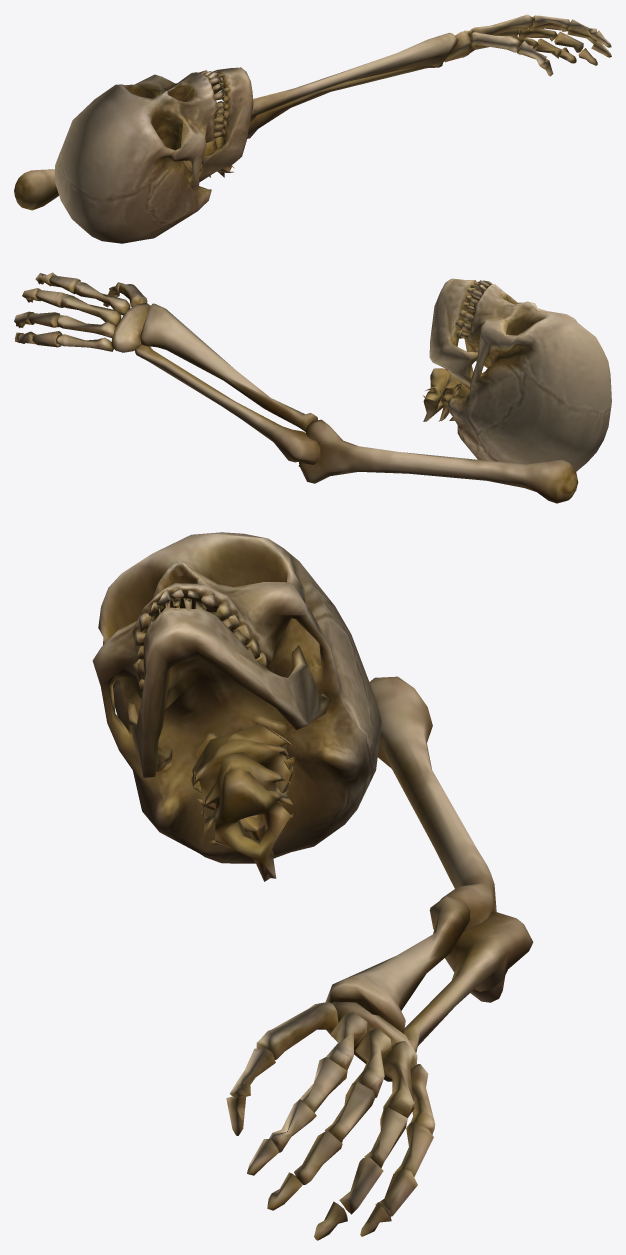
The picture shows the model from 3 angles, top to bottom: view 1: azimuth 30°, elevation 25°; view 2: azimuth 150°, elevation 25°; view 3: azimuth 270°, elevation 25°; orthographic projection. The views are drawn at different scales.
Parts seen in each view (by area): view 1: skeleton.2; view 2: skeleton.2; view 3: skeleton.2.
Boxes of the visible parts, <box> form: skeleton.2: <box>14,14,611,243</box>; skeleton.2: <box>14,272,611,503</box>; skeleton.2: <box>92,532,533,1240</box>.
Size of the model in its own units: 1.03 by 0.2807 by 0.3468.
Materials: 1 (1 with a texture image).
